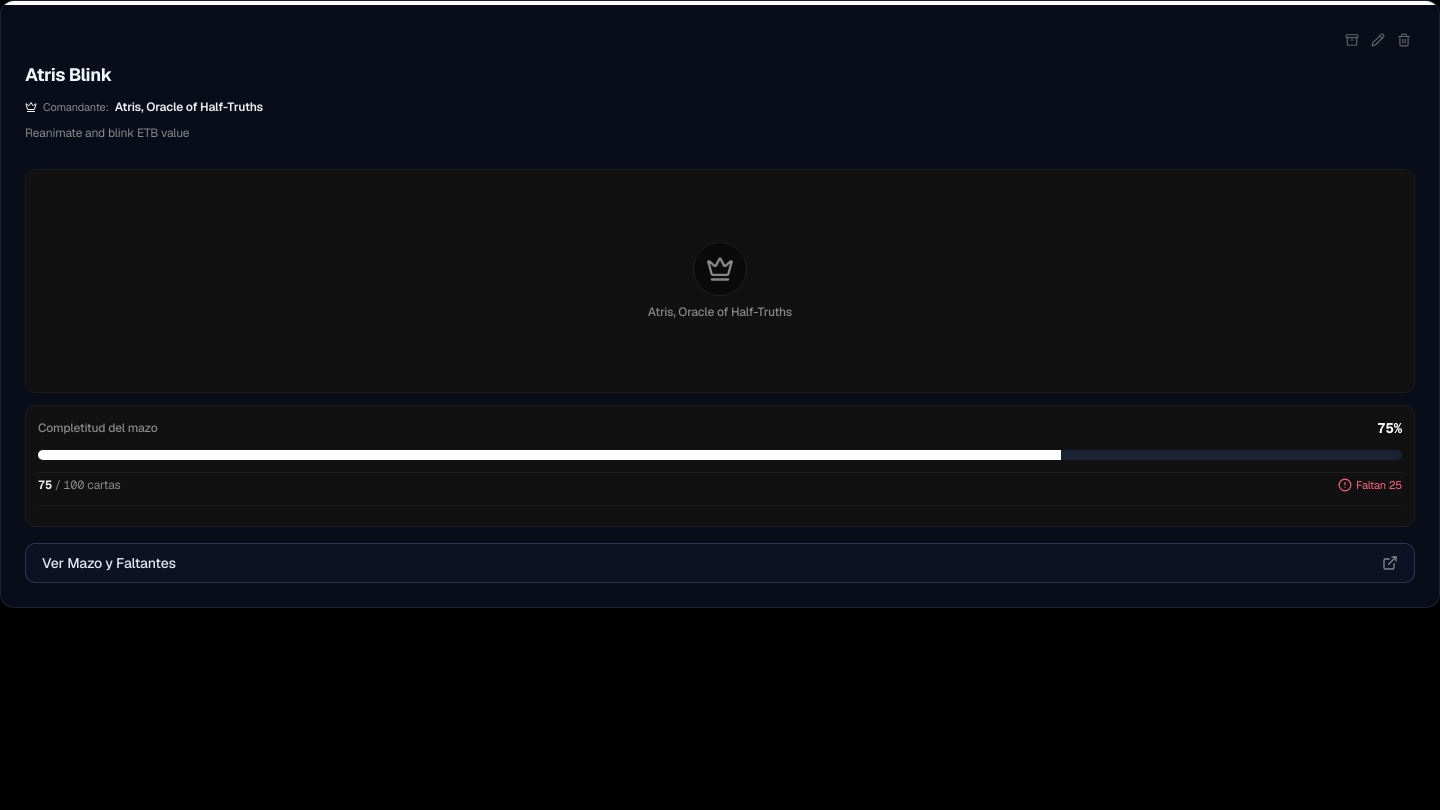
Test: DeckCardItem Component › should close modal when clicking Cancelar without deleting
Click the button titled "Eliminar mazo" at x=1404, y=40, box 1393,29 -> 1415,51
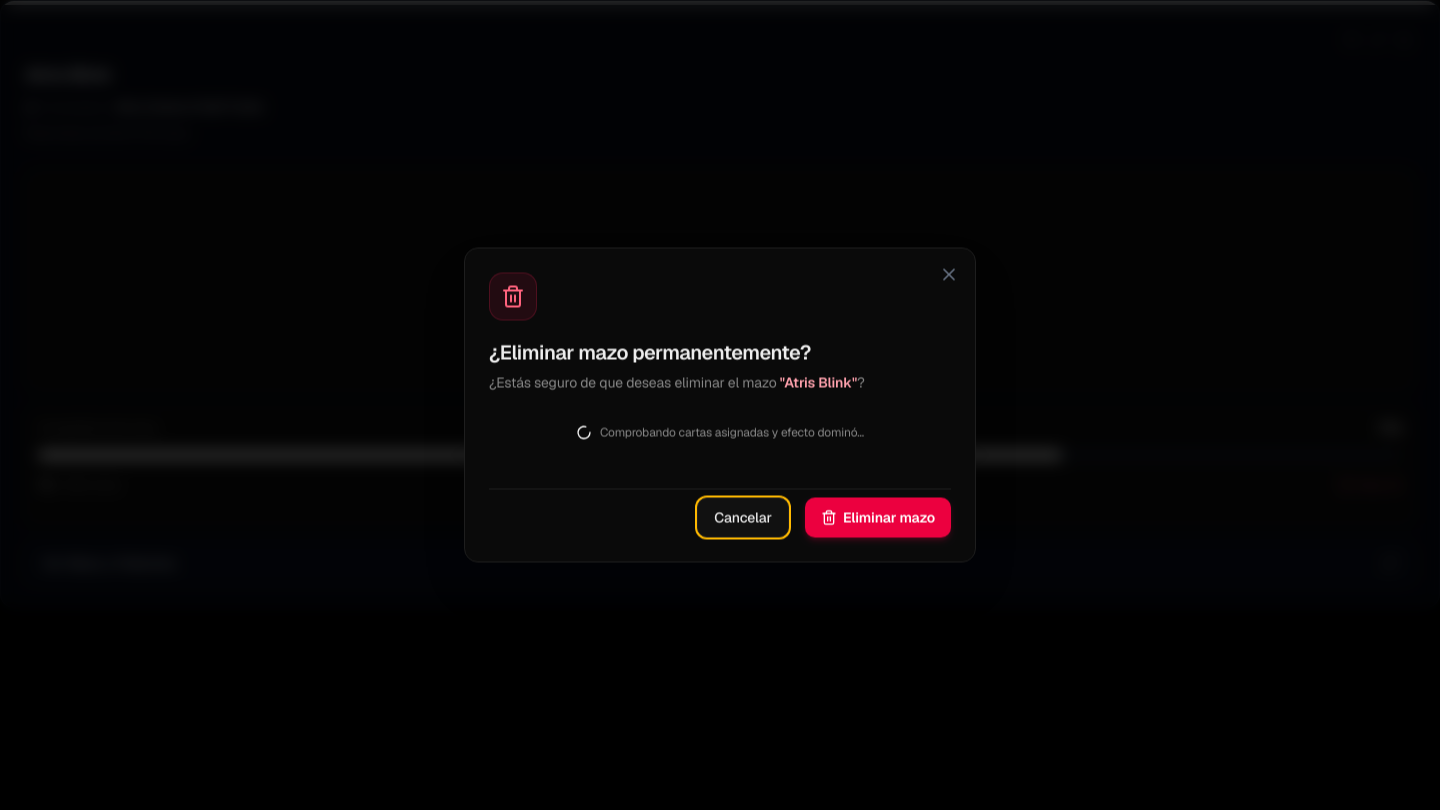
Expected: the heading "¿Eliminar mazo permanentemente?" is shown, 489,338 -> 865,366
Click the button "Cancelar" at x=743, y=518, box 697,498 -> 789,538
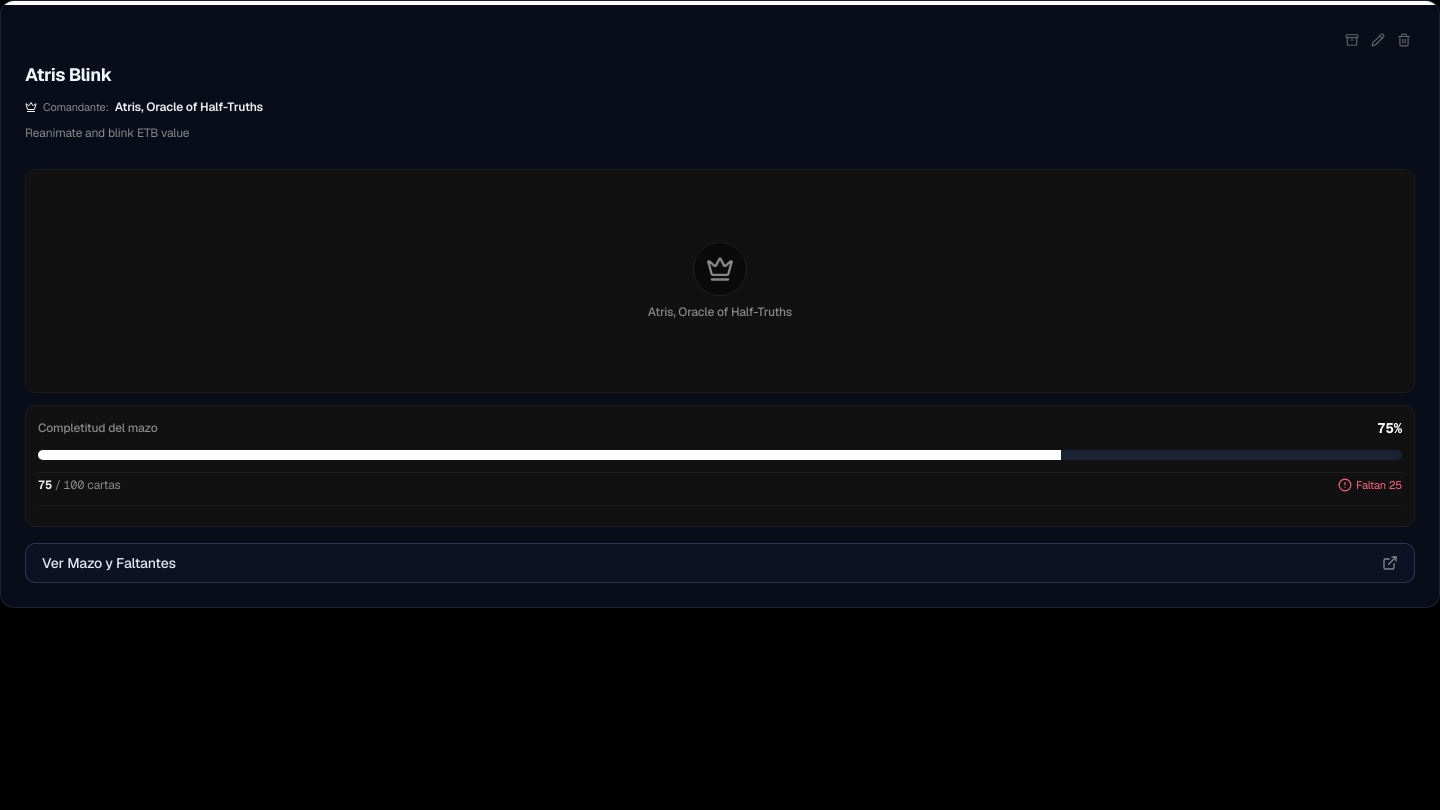
Expected: the heading "¿Eliminar mazo permanentemente?" is gone
